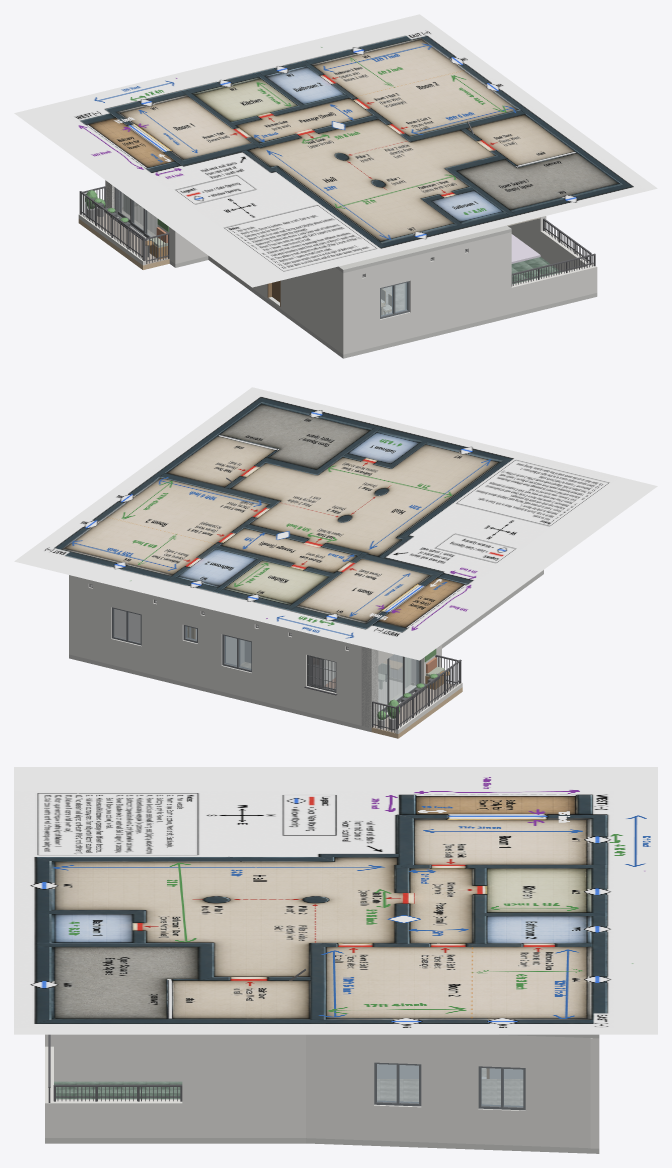
The model's file is MyFlat_V1_4_Hall_BestOfBoth.glb.
3 renders of one model, top to bottom at view 1: azimuth 30°, elevation 25°; view 2: azimuth 150°, elevation 25°; view 3: azimuth 270°, elevation 25°, orthographic. The views are drawn at different scales.
Parts seen in each view (by area): view 1: PLAN_REFERENCE_OVERLAY, WALL_EXT_S_HALL, WALL_EXT_W_HALL, PARAPET_OPENSQ_S, SLAB_FLOOR_STRUCTURAL, BALCONY_RAILING_W, SLAB_ROOF, PARAPET_OPENSQ_E, R1_DEF_BALCONY_FLOOR_FINISH, RAILING_OPENSQ_S, WALL_EXT_E_STAIR, HBB_OPENSQ_FINISH (+4 smaller); view 2: PLAN_REFERENCE_OVERLAY, WALL_EXT_N_R2, WALL_EXT_N_R1, WALL_EXT_N_KIT, WALL_EXT_N_B2, SLAB_FLOOR_STRUCTURAL, BALCONY_RAILING_W, PILLAR_R1_NW, R1_DEF_BALCONY_CURTAIN_SHEER, WALL_EXT_W_R1_BALCONY, WINDOW_W4_GLASS, R1_DEF_BALCONY_FLOOR_FINISH (+3 smaller); view 3: PLAN_REFERENCE_OVERLAY, WALL_EXT_E_R2_TAPERED, WALL_EXT_E_STAIR, WALL_INT_OPENSQ_W, PARAPET_OPENSQ_E, SLAB_FLOOR_STRUCTURAL, HBB_OPENSQ_FINISH, HBB_FLOOR_R2_FINISH, WINDOW_W5_GLASS, WINDOW_W6_GLASS, RAILING_OPENSQ_E, WALL_EXT_N_R2 (+4 smaller).
Boxes of the visible parts, bbox=[...] form: PLAN_REFERENCE_OVERLAY: bbox=[14, 14, 657, 287]; WALL_EXT_S_HALL: bbox=[340, 232, 511, 354]; WALL_EXT_W_HALL: bbox=[209, 256, 348, 354]; PARAPET_OPENSQ_S: bbox=[511, 264, 597, 313]; SLAB_FLOOR_STRUCTURAL: bbox=[169, 256, 597, 358]; BALCONY_RAILING_W: bbox=[79, 191, 144, 260]; SLAB_ROOF: bbox=[335, 225, 511, 273]; PARAPET_OPENSQ_E: bbox=[540, 230, 593, 272]; R1_DEF_BALCONY_FLOOR_FINISH: bbox=[93, 212, 168, 264]; RAILING_OPENSQ_S: bbox=[511, 253, 595, 286]; WALL_EXT_E_STAIR: bbox=[508, 216, 546, 254]; HBB_OPENSQ_FINISH: bbox=[511, 257, 561, 284]; PLAN_REFERENCE_OVERLAY: bbox=[14, 387, 657, 660]; WALL_EXT_N_R2: bbox=[69, 575, 171, 679]; WALL_EXT_N_R1: bbox=[265, 623, 372, 727]; WALL_EXT_N_KIT: bbox=[208, 609, 264, 701]; WALL_EXT_N_B2: bbox=[172, 600, 208, 688]; SLAB_FLOOR_STRUCTURAL: bbox=[69, 570, 543, 731]; BALCONY_RAILING_W: bbox=[396, 659, 461, 729]; PILLAR_R1_NW: bbox=[361, 646, 378, 727]; R1_DEF_BALCONY_CURTAIN_SHEER: bbox=[378, 654, 411, 708]; WALL_EXT_W_R1_BALCONY: bbox=[362, 647, 438, 727]; WINDOW_W4_GLASS: bbox=[114, 609, 140, 642]; R1_DEF_BALCONY_FLOOR_FINISH: bbox=[373, 683, 454, 732]; PLAN_REFERENCE_OVERLAY: bbox=[14, 767, 657, 1034]; WALL_EXT_E_R2_TAPERED: bbox=[306, 1034, 590, 1148]; WALL_EXT_E_STAIR: bbox=[182, 1034, 305, 1137]; WALL_INT_OPENSQ_W: bbox=[54, 1034, 182, 1081]; PARAPET_OPENSQ_E: bbox=[54, 1099, 182, 1137]; SLAB_FLOOR_STRUCTURAL: bbox=[45, 1138, 599, 1153]; HBB_OPENSQ_FINISH: bbox=[54, 1081, 182, 1099]; HBB_FLOOR_R2_FINISH: bbox=[377, 1079, 523, 1105]; WINDOW_W5_GLASS: bbox=[481, 1068, 523, 1106]; WINDOW_W6_GLASS: bbox=[377, 1064, 418, 1103]; RAILING_OPENSQ_E: bbox=[53, 1084, 182, 1101]; WALL_EXT_N_R2: bbox=[590, 1038, 599, 1148].
Size of what is drawn, in the model's own units: 16.28 by 4.33 by 16.55.
Materials: 115 (7 with a texture image).
